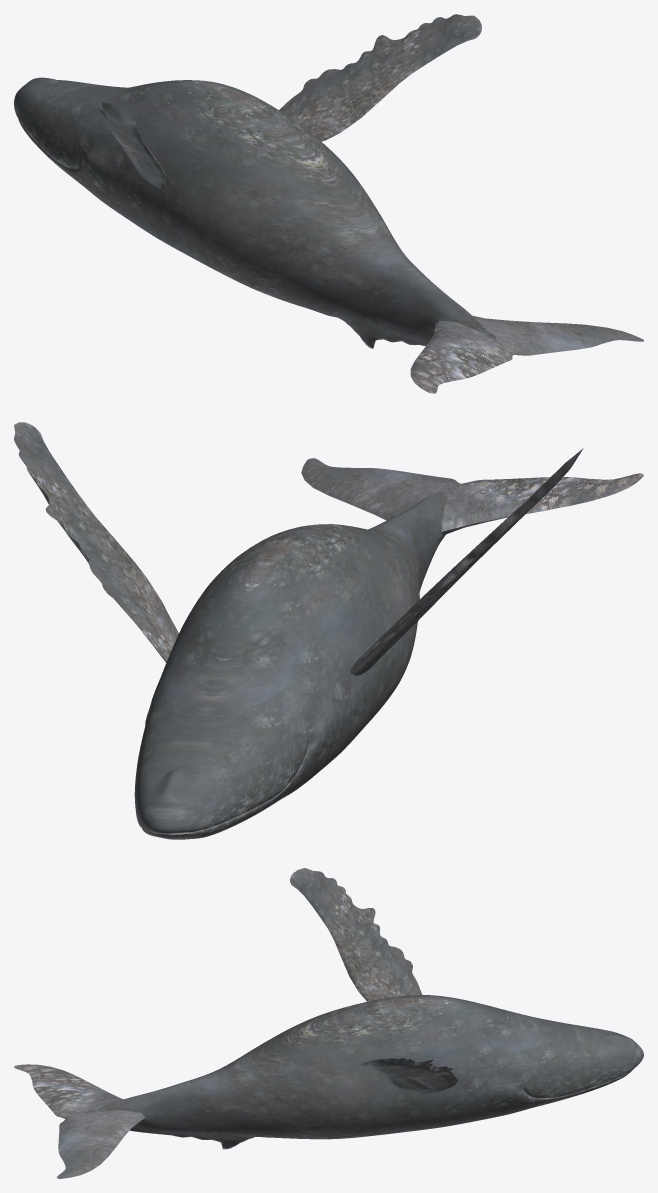
The model's file is whale.obj.
3 renders of one model, top to bottom at view 1: azimuth 30°, elevation 25°; view 2: azimuth 150°, elevation 25°; view 3: azimuth 270°, elevation 25°, orthographic. The views are drawn at different scales.
Visible parts, largest first — view 1: bluewhale010, bluewhale015, bluewhale014, bluewhale016; view 2: bluewhale010, bluewhale014, bluewhale015, bluewhale016, bluewhale013; view 3: bluewhale010, bluewhale013, bluewhale014, bluewhale019.
Part boxes in pixels (x1,y1,x2,y2): bluewhale010: (14, 77, 496, 348); bluewhale015: (279, 14, 481, 141); bluewhale014: (410, 316, 643, 393); bluewhale016: (96, 101, 167, 189); bluewhale010: (134, 487, 450, 839); bluewhale014: (301, 458, 643, 531); bluewhale015: (14, 422, 178, 661); bluewhale016: (350, 448, 583, 675); bluewhale013: (350, 449, 582, 671); bluewhale010: (85, 995, 643, 1149); bluewhale013: (290, 868, 422, 1001); bluewhale014: (14, 1064, 145, 1178); bluewhale019: (362, 1058, 457, 1093).
Bounding box in the file's own units: 17.29 × 10.38 × 29.33.
